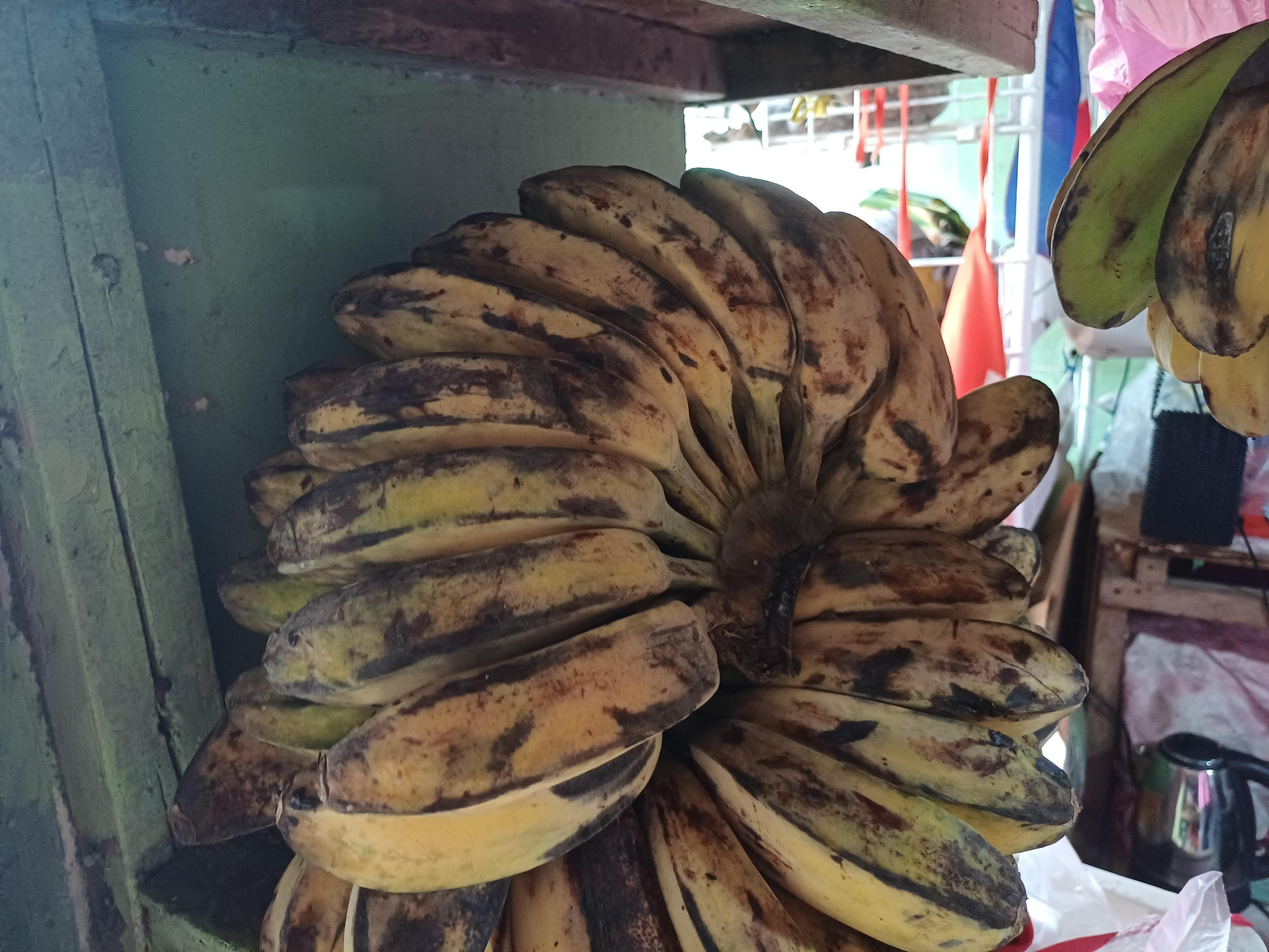ripe: (221, 167, 1061, 893), (261, 527, 1086, 952), (1041, 22, 1269, 436)
